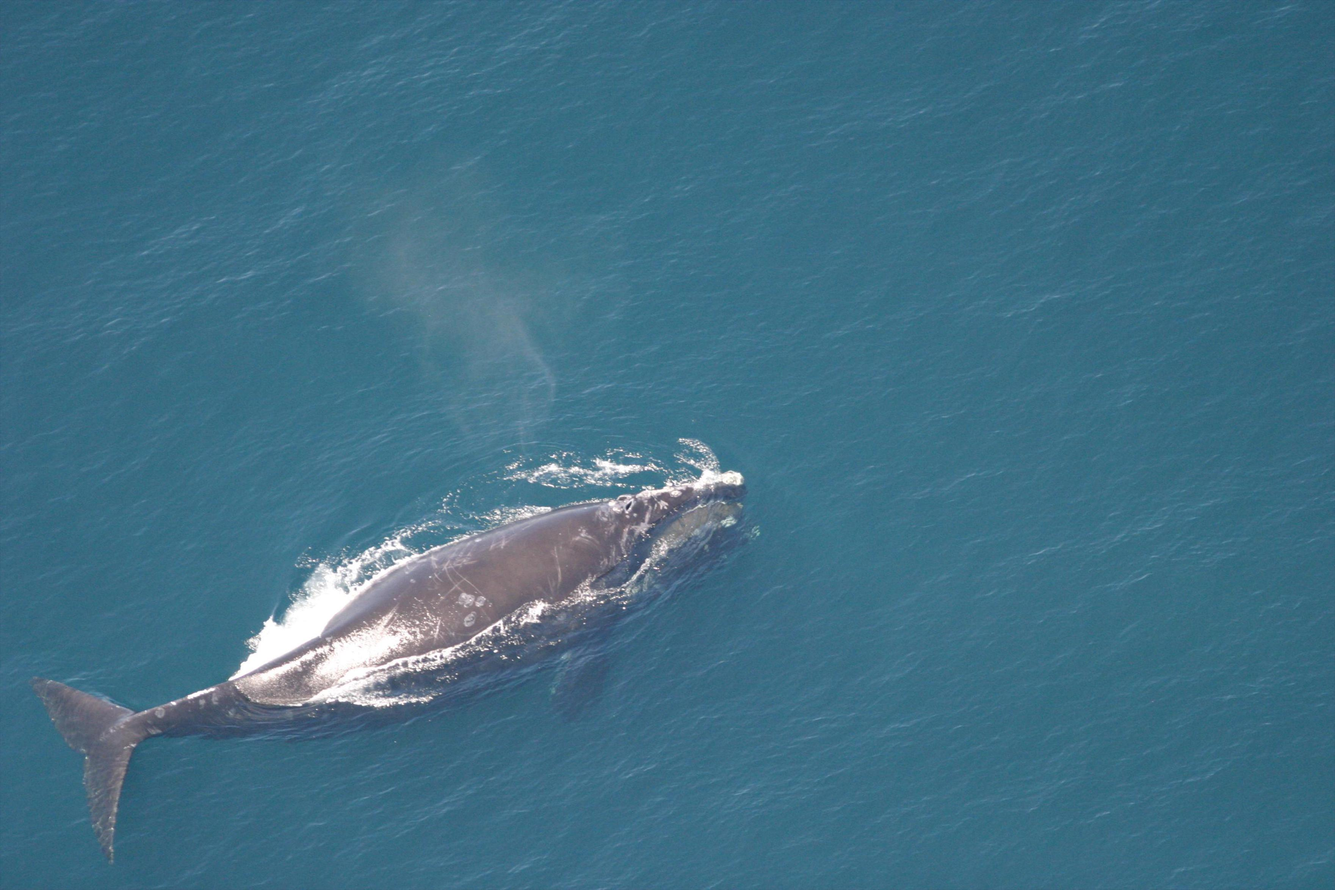whale: (20, 462, 766, 870)
